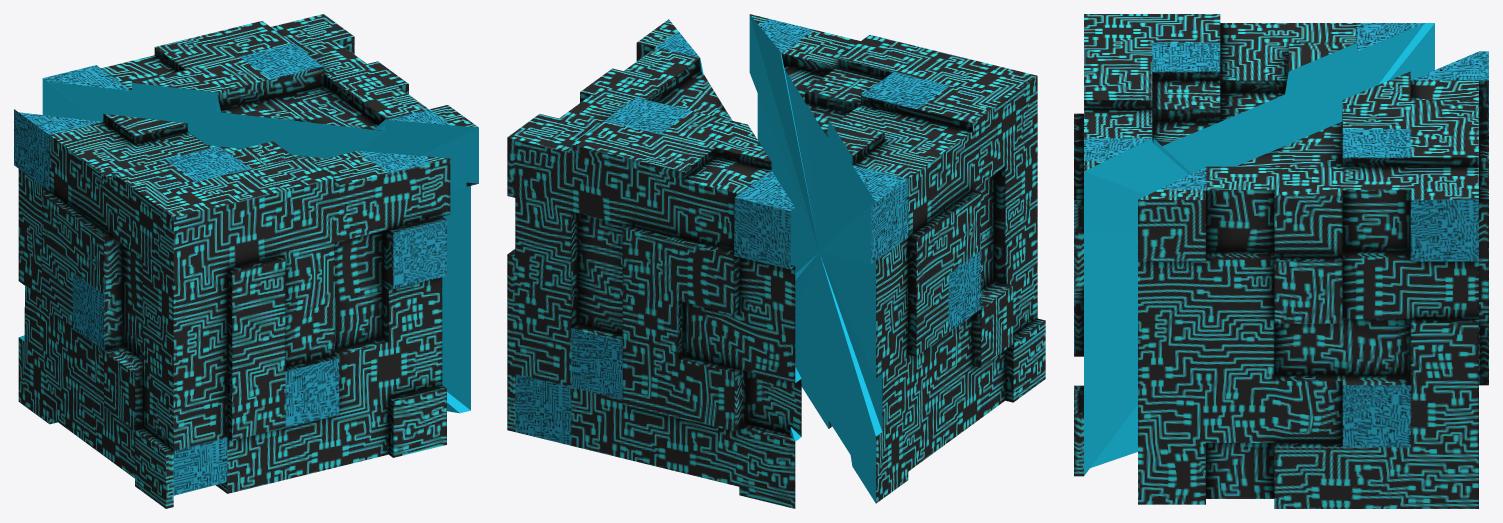
File: AxisDevice2Parts.FBX
3 views of the same model, side by side, from view 1: azimuth 30°, elevation 25°; view 2: azimuth 150°, elevation 25°; view 3: azimuth 270°, elevation 25° (orthographic). The views are drawn at different scales.
Parts seen in each view (by area): view 1: Axis2, Axis1; view 2: Axis1, Axis2; view 3: Axis1, Axis2.
Boxes of the visible parts, x1,y1,x2,y2 form: Axis2: [14, 109, 450, 508]; Axis1: [42, 14, 478, 413]; Axis1: [507, 19, 801, 508]; Axis2: [749, 14, 1045, 503]; Axis1: [1138, 51, 1488, 508]; Axis2: [1074, 14, 1434, 476].
Bounding box in the file's own units: 63.8 × 53.76 × 61.78.
2 materials, 1 textured.
